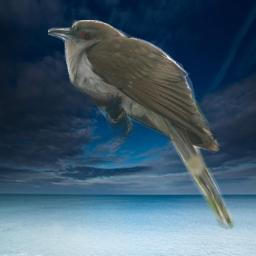Cuckoo: (48, 20, 234, 232)
